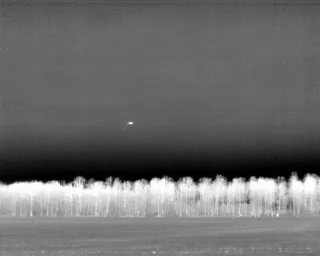DRONE: (124, 117, 136, 129)
